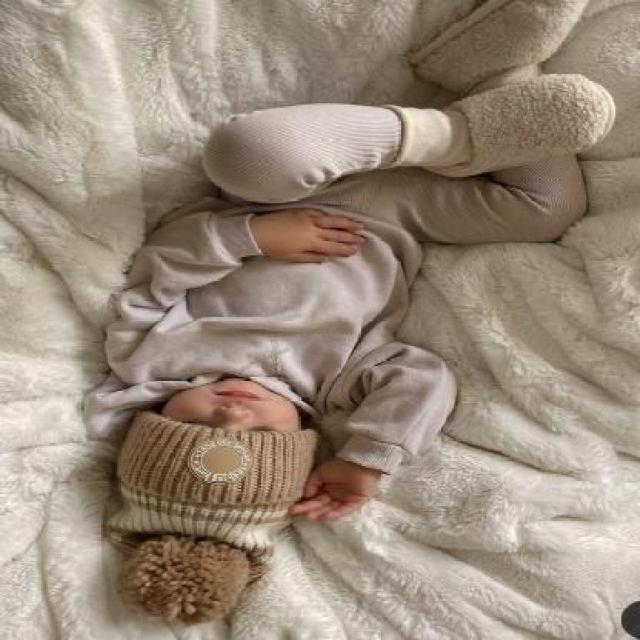baby: (82, 2, 612, 630)
